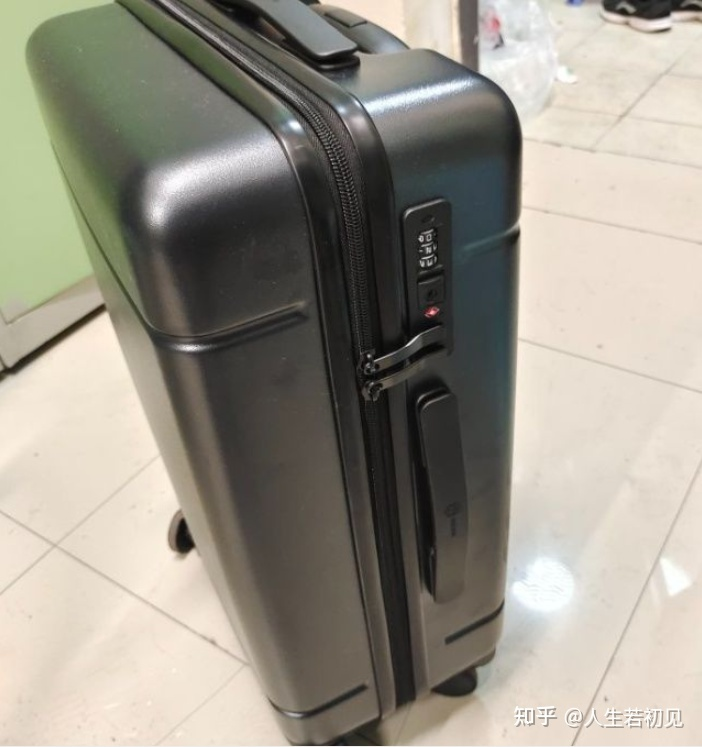box: (24, 1, 523, 746)
handle: (413, 386, 468, 604), (208, 1, 362, 75)
lock: (379, 198, 458, 387)
wheel: (168, 508, 193, 556)
